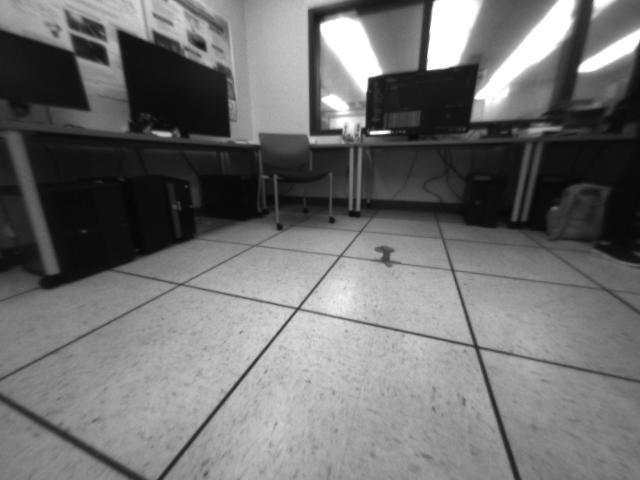X: (371, 249, 401, 268)
